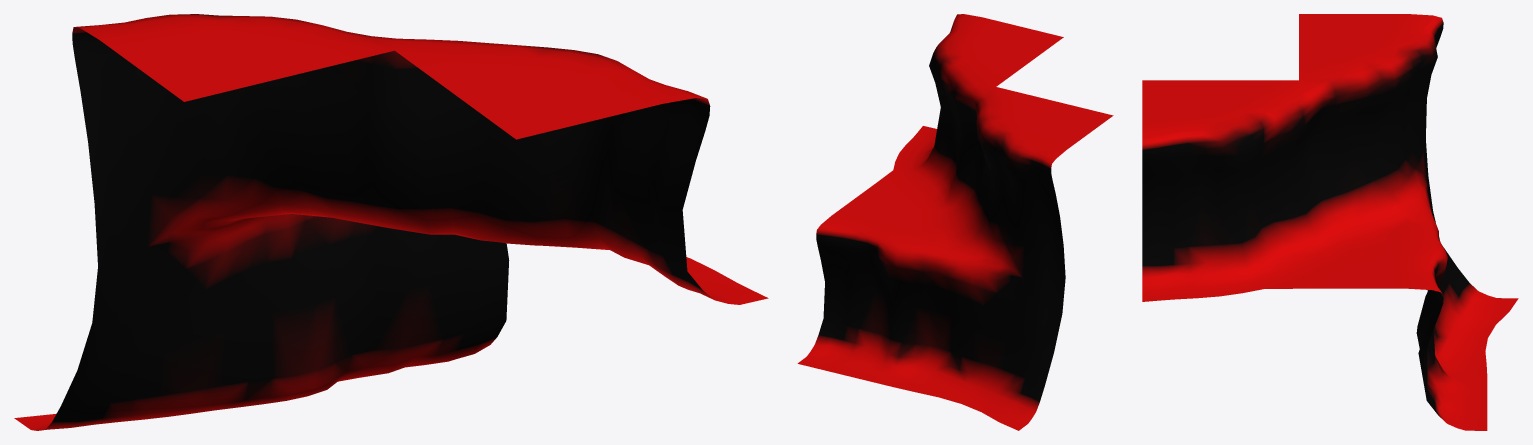
The model's file is Cliff 1x2x1 Foreground.fbx.
3 renders of one model, left to right at view 1: azimuth 30°, elevation 25°; view 2: azimuth 150°, elevation 25°; view 3: azimuth 270°, elevation 25°, orthographic. The views are drawn at different scales.
Visible parts, largest first — view 1: Cliff 1x2x1 Foreground; view 2: Cliff 1x2x1 Foreground; view 3: Cliff 1x2x1 Foreground.
Boxes of the visible parts, x1,y1,x2,y2 form: Cliff 1x2x1 Foreground: [14, 14, 768, 430]; Cliff 1x2x1 Foreground: [797, 14, 1113, 430]; Cliff 1x2x1 Foreground: [1142, 14, 1518, 430].
Size of the model in its own units: 2.2 by 2 by 2.4.
